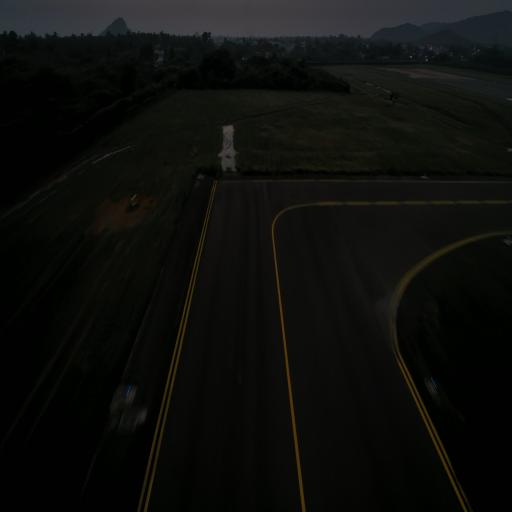on: (430, 372, 440, 394), (125, 385, 133, 400), (199, 172, 203, 178), (423, 170, 426, 176)
